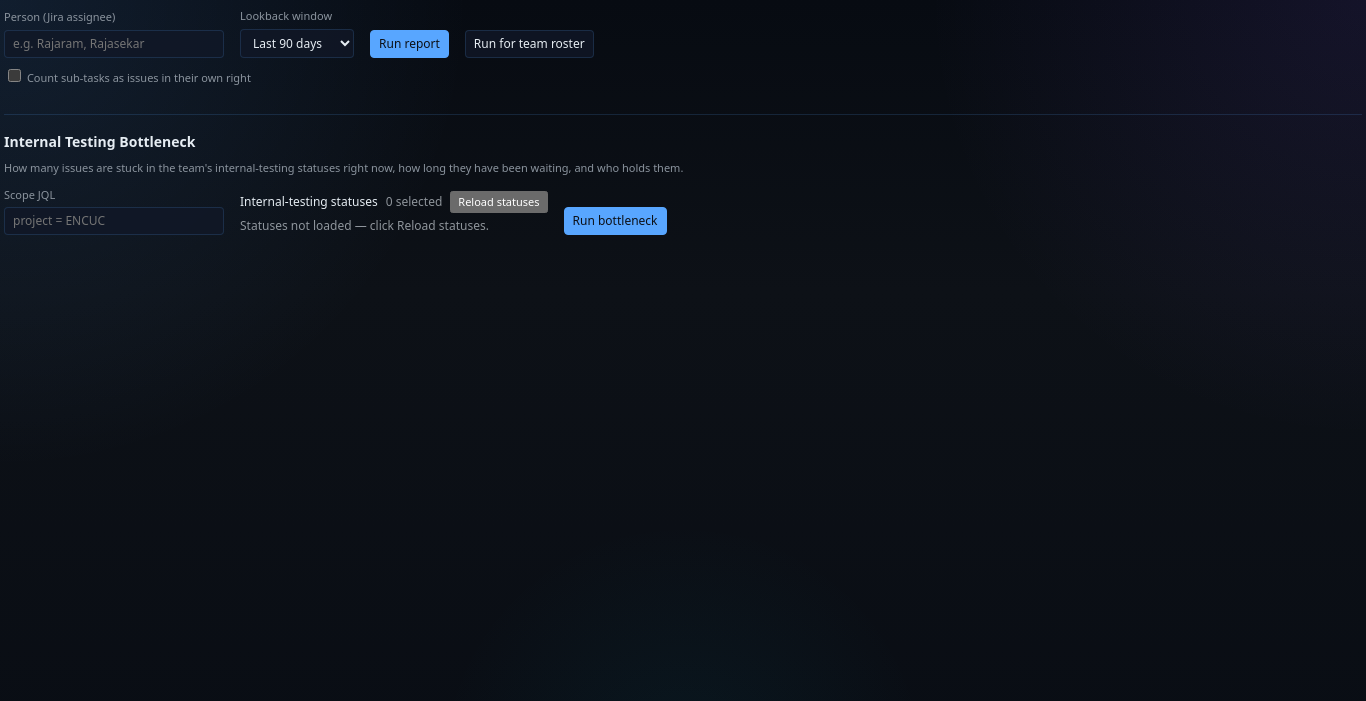
Test: PersonalFlowTab › shows a diagnostic line with the queried machine id and the fetched vs credited counts
Type "Jane Dev" into the field labelled "Person (Jira assignee)" at [114, 44], box [4,30,224,58]
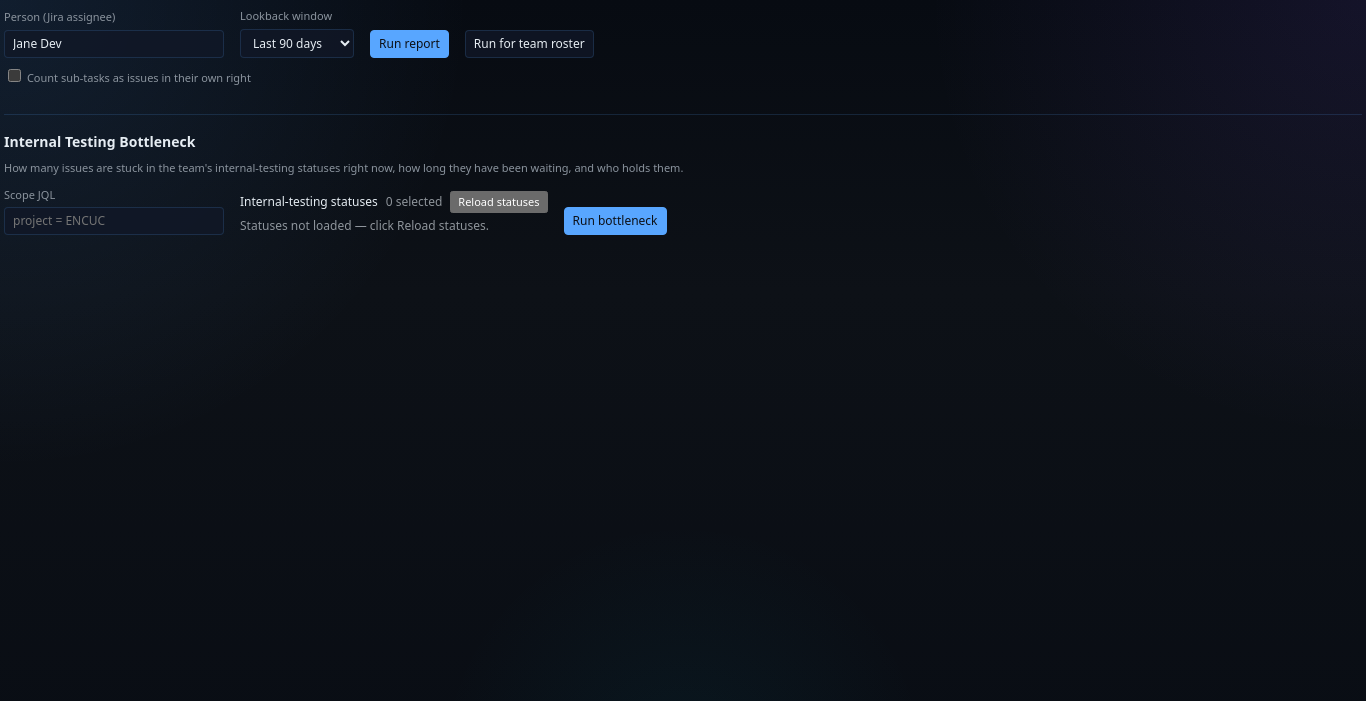
Click the button "Run report" at [409, 44], box [370,30,449,58]
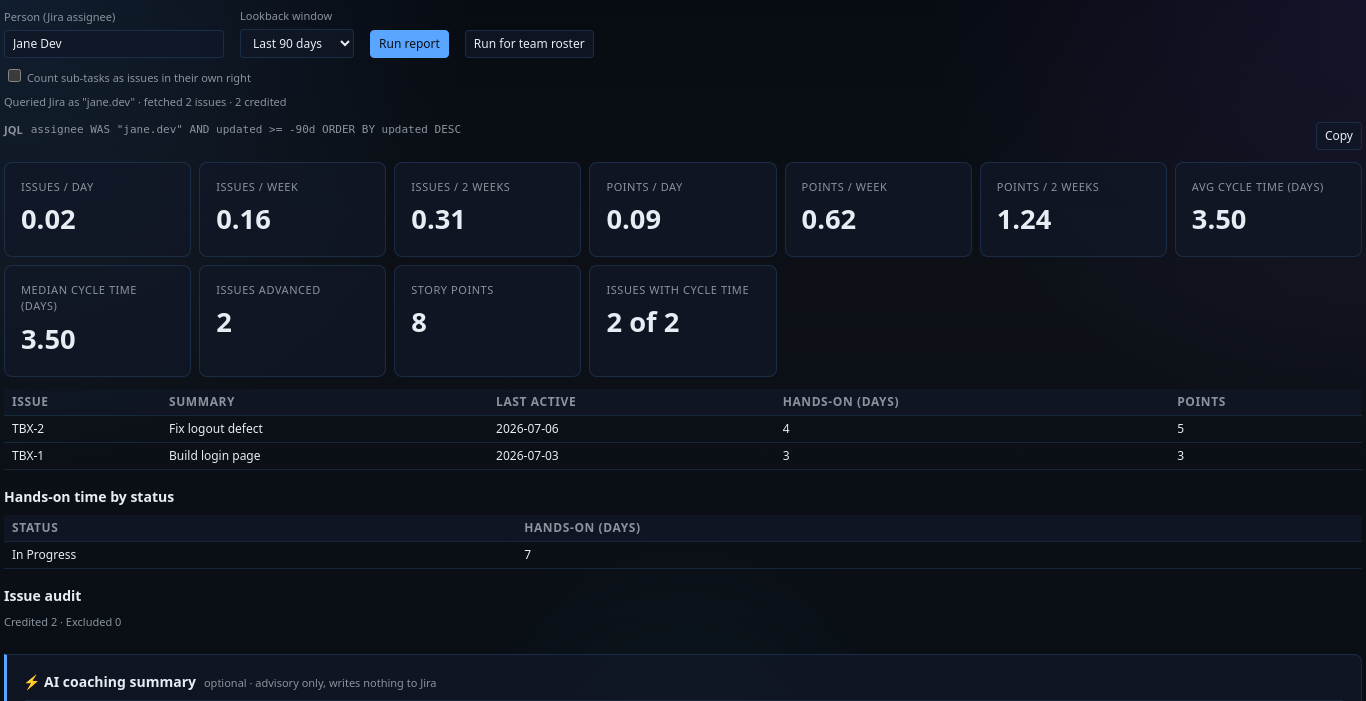
Check: the text "Queried Jira as \"jane.dev\" · fetched 2 issues · 2 credited" shows "Queried Jira as \"jane.dev\"", box [4,94,287,109]
Check: the text "Queried Jira as \"jane.dev\" · fetched 2 issues · 2 credited" is shown, box [4,94,287,109]
